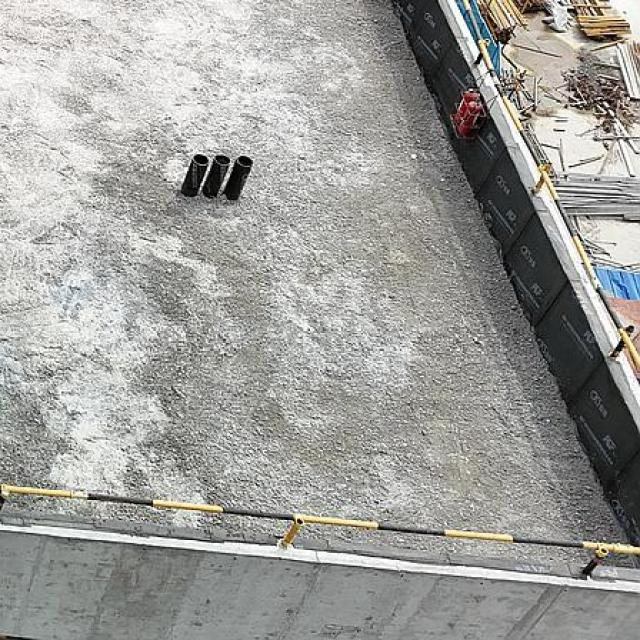edge_guardrail: (461, 0, 640, 369), (0, 482, 640, 577)
